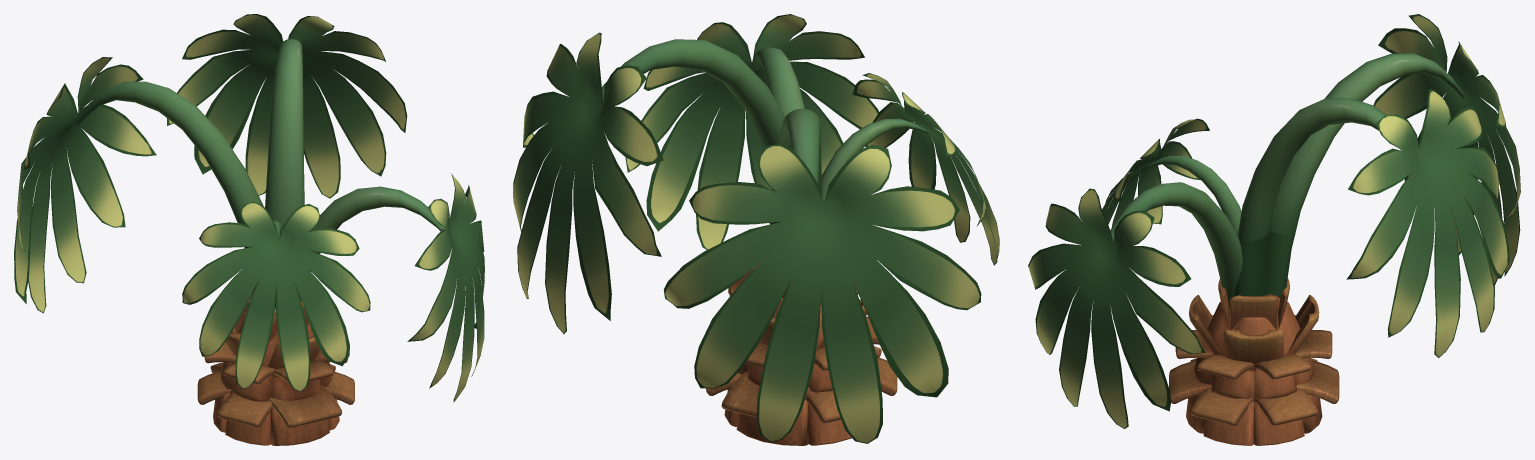
File: BismarckPalm_3.fbx
The picture shows the model from 3 angles, left to right: view 1: azimuth 30°, elevation 25°; view 2: azimuth 150°, elevation 25°; view 3: azimuth 270°, elevation 25°; orthographic projection. The views are drawn at different scales.
Visible parts, largest first — view 1: Object001, Object004, Object003, Object002, Object005, Object010, BismarckPalm_1_low, BismarchPalm_4_low002, Object011, BismarchPalm_5_low, BismarchPalm_3_low002; view 2: Object003, Object001, Object002, Object004, Object005, BismarckPalm_1_low, BismarchPalm_4_low002, Object010, Object011, Object009, BismarchPalm_5_low; view 3: Object001, Object002, Object003, BismarckPalm_1_low, Object010, Object005, BismarchPalm_4_low002, Object011, BismarchPalm_3_low002, Object004, BismarchPalm_5_low, BismarchPalm_2_low001 (+1 smaller).
Part boxes in pixels (x1,y1,x2,y2): Object001: (167, 14, 407, 198); Object004: (182, 202, 370, 391); Object003: (14, 57, 156, 313); Object002: (407, 174, 484, 401); Object005: (265, 39, 304, 226); Object010: (75, 81, 263, 293); BismarckPalm_1_low: (213, 318, 339, 445); BismarchPalm_4_low002: (197, 362, 354, 428); Object011: (295, 186, 446, 300); BismarchPalm_5_low: (204, 331, 348, 385); BismarchPalm_3_low002: (225, 312, 320, 369); Object003: (663, 144, 981, 443); Object001: (513, 32, 663, 333); Object002: (625, 14, 878, 249); Object004: (852, 73, 999, 265); Object005: (602, 39, 784, 190); BismarckPalm_1_low: (724, 298, 851, 445); BismarchPalm_4_low002: (706, 346, 897, 423); Object010: (770, 108, 822, 223); Object011: (750, 47, 804, 116); Object009: (821, 118, 928, 203); BismarchPalm_5_low: (745, 299, 879, 370); Object001: (1346, 89, 1509, 357); Object002: (1028, 188, 1205, 428); Object003: (1373, 14, 1520, 285); BismarckPalm_1_low: (1186, 294, 1322, 445); Object010: (1264, 53, 1464, 296); Object005: (1234, 98, 1385, 296); BismarchPalm_4_low002: (1169, 358, 1339, 425); Object011: (1110, 182, 1242, 310); BismarchPalm_3_low002: (1189, 295, 1319, 363); Object004: (1102, 118, 1209, 226); BismarchPalm_5_low: (1175, 315, 1332, 379); BismarchPalm_2_low001: (1218, 278, 1289, 329).
Bounding box in the file's own units: 3.85 × 3.23 × 4.03.
